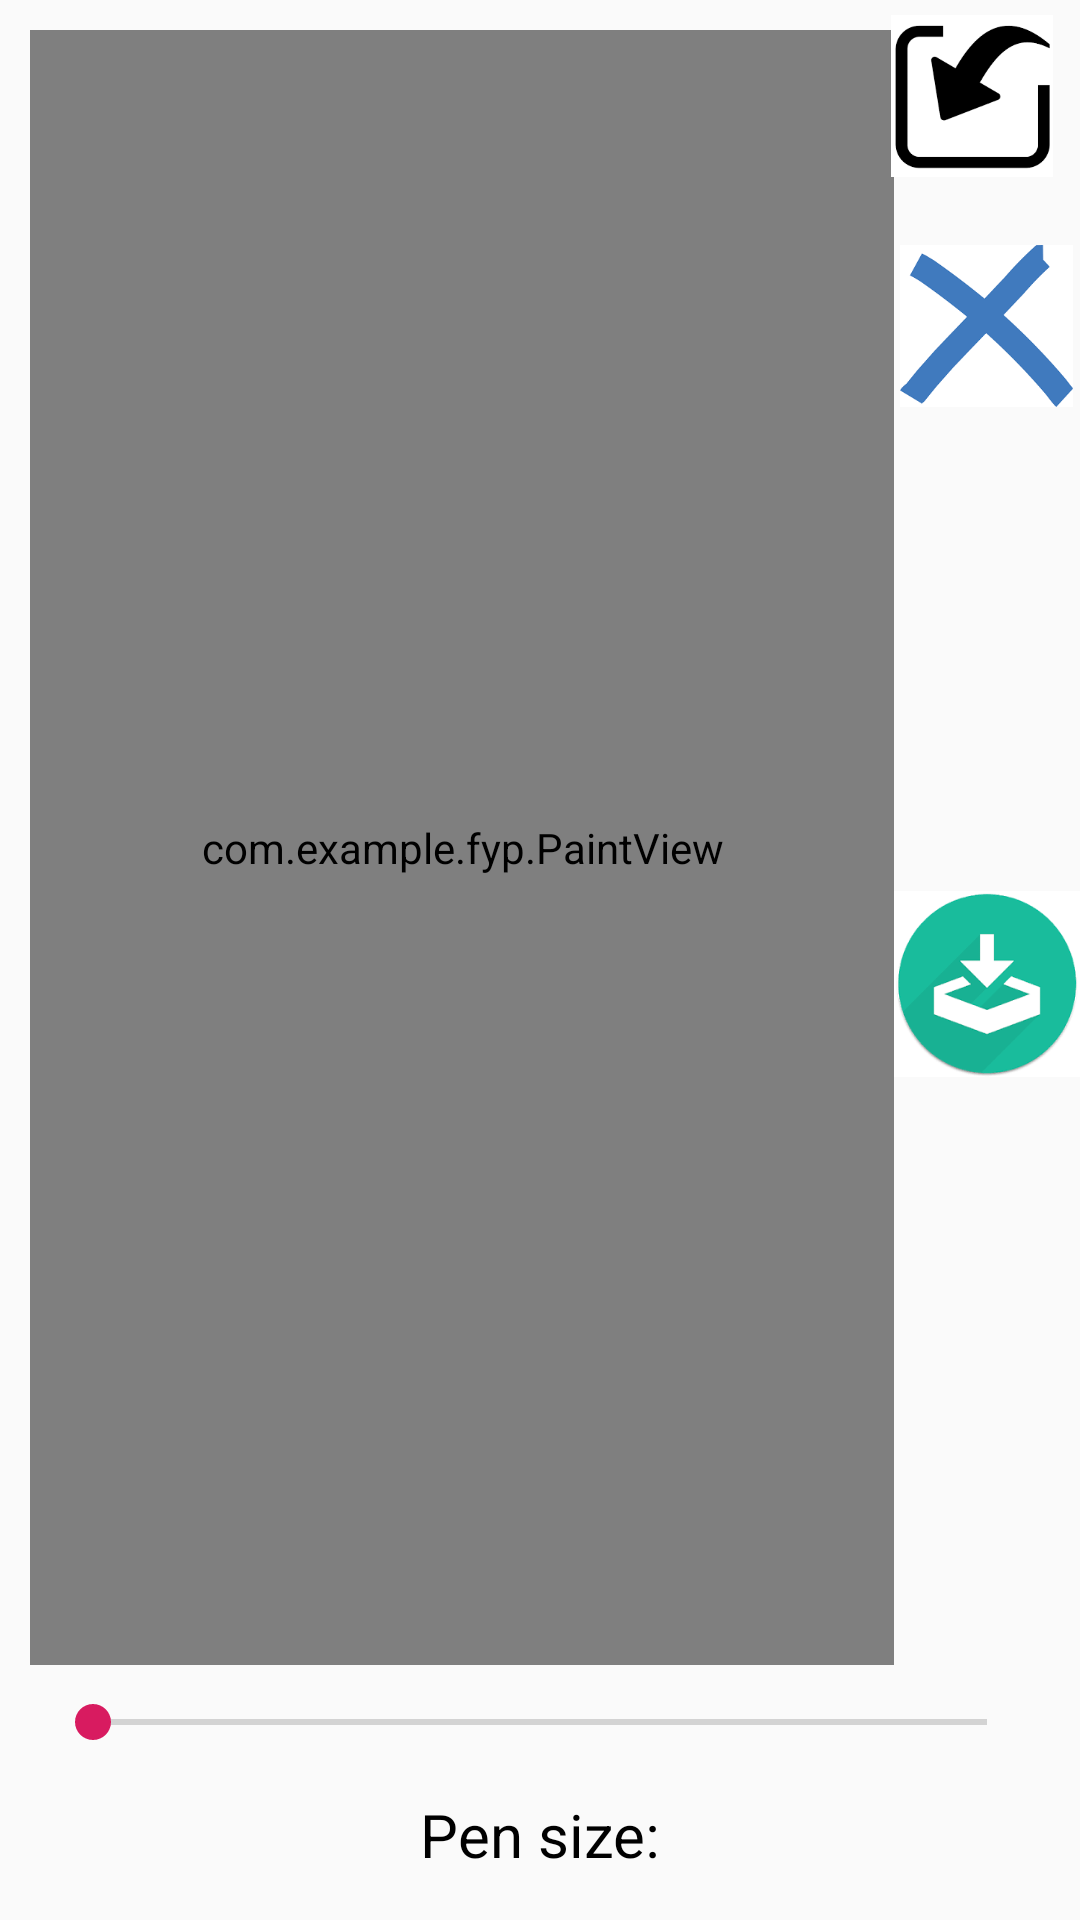

Screen size 1080 × 1920. Icon name, then its center in pixels as [x,y]:
delete: [986,326]
